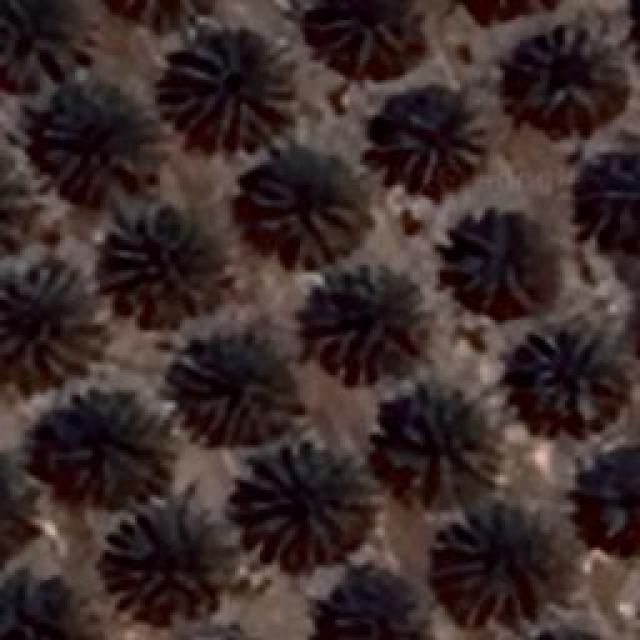PalmTree: (157, 32, 295, 150), (302, 262, 430, 382), (105, 200, 227, 325), (230, 445, 350, 570), (238, 152, 360, 270), (39, 392, 169, 498), (430, 508, 542, 628), (105, 498, 220, 612), (0, 262, 102, 382), (380, 392, 498, 492), (181, 348, 301, 446), (39, 91, 152, 194), (522, 325, 620, 425), (440, 208, 535, 310), (382, 102, 488, 190), (569, 439, 640, 570), (512, 22, 606, 118), (3, 0, 88, 85), (316, 572, 422, 640), (310, 0, 408, 70), (0, 570, 99, 639), (0, 140, 49, 249), (0, 452, 49, 560), (575, 148, 640, 222), (98, 0, 217, 29), (459, 0, 557, 29)
